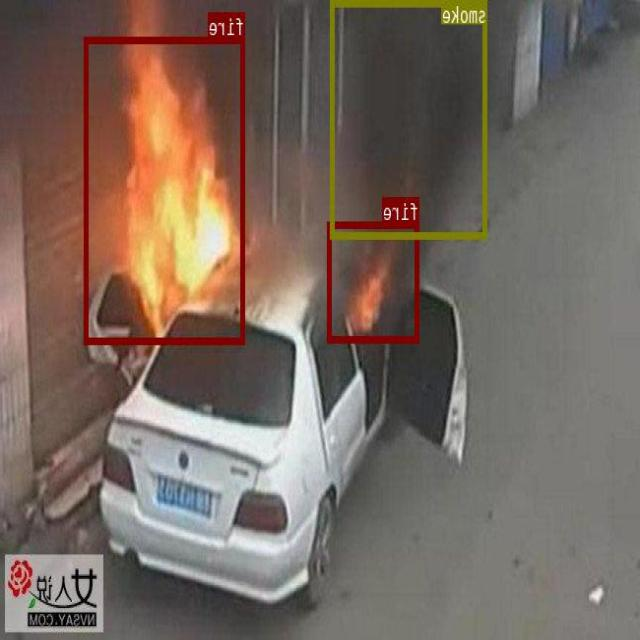fire: (85, 35, 246, 342), (329, 222, 420, 342)
smoke: (332, 0, 488, 238)
